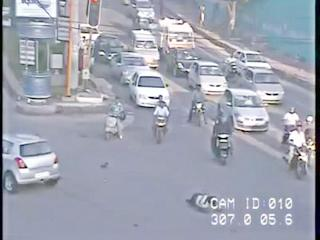Car: (2, 132, 61, 193), (221, 88, 269, 131), (240, 68, 284, 104), (128, 70, 169, 107), (188, 60, 227, 95), (127, 30, 161, 69), (110, 52, 151, 82), (225, 49, 270, 75), (165, 48, 199, 78), (161, 19, 195, 48), (93, 34, 125, 64), (129, 1, 157, 28)
Motor: (282, 141, 309, 178), (210, 127, 233, 164), (282, 111, 301, 144), (104, 111, 123, 140), (189, 100, 207, 127), (153, 114, 168, 144), (306, 118, 316, 151)
